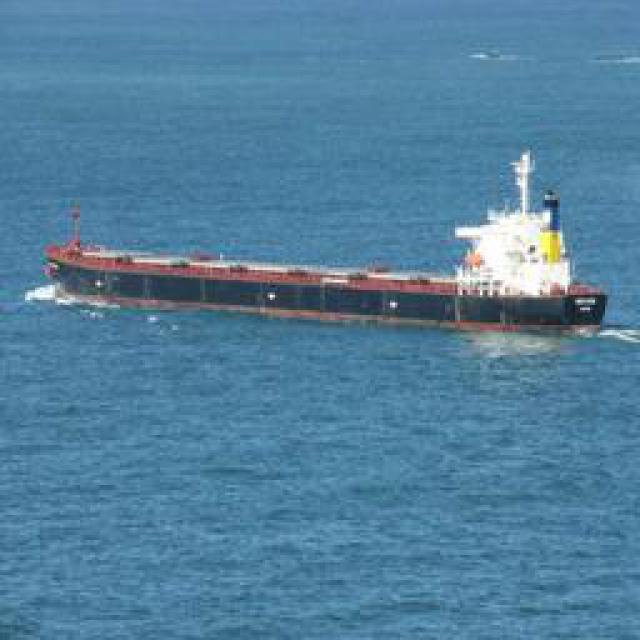Ship: (42, 143, 615, 341)
